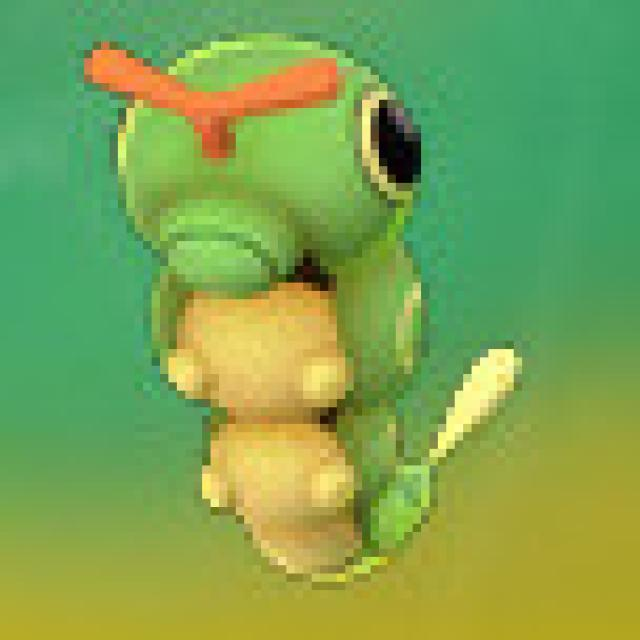Caterpie: (77, 35, 446, 592)
